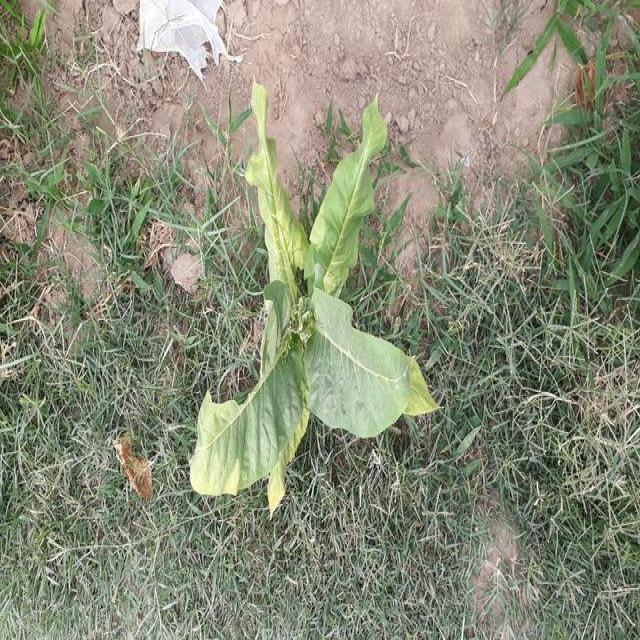crop: (184, 94, 434, 514)
